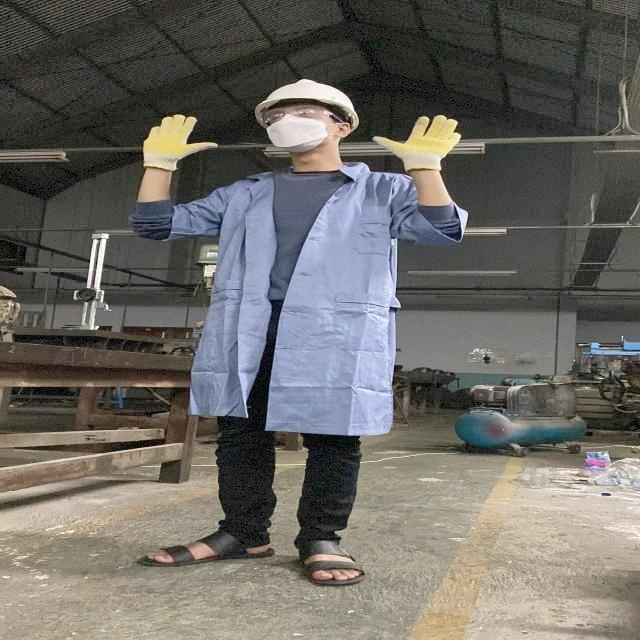Guantes: (381, 107, 463, 171), (141, 113, 218, 171)
